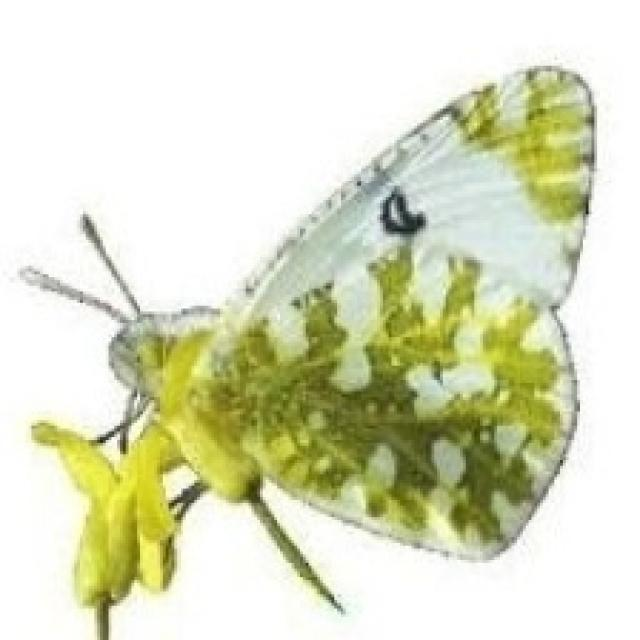butterfly: (14, 60, 597, 614)
